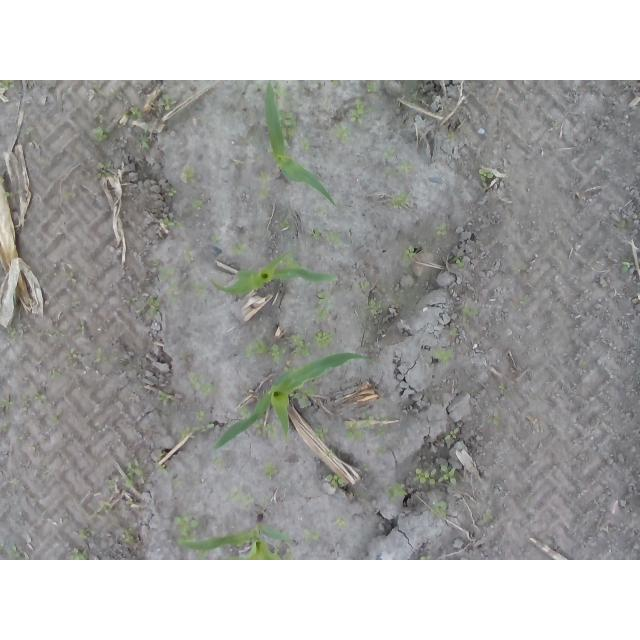Maize: (214, 352, 379, 447), (263, 81, 340, 208), (206, 251, 338, 297), (180, 513, 292, 560)
Weeds: (276, 107, 297, 149), (173, 511, 199, 542), (252, 416, 280, 441), (187, 373, 217, 396), (348, 99, 372, 126), (123, 460, 145, 488), (226, 488, 255, 509), (314, 290, 330, 323), (430, 346, 454, 366), (387, 191, 411, 211), (292, 334, 312, 358), (90, 500, 112, 521), (136, 299, 160, 318), (246, 341, 271, 359), (412, 467, 437, 485), (331, 124, 354, 143), (279, 252, 301, 271), (159, 265, 178, 287), (293, 387, 315, 406), (385, 483, 407, 502), (315, 330, 334, 351), (94, 161, 114, 180), (270, 83, 290, 102), (346, 421, 365, 441), (438, 465, 458, 484), (261, 461, 280, 480), (176, 425, 200, 440), (376, 412, 391, 436), (2, 188, 23, 205), (123, 104, 145, 120), (325, 473, 347, 489), (158, 93, 177, 111), (430, 500, 449, 518), (454, 302, 478, 316), (478, 167, 494, 188), (272, 545, 294, 560), (397, 159, 416, 176), (270, 343, 286, 363), (323, 231, 344, 246), (92, 125, 112, 140), (159, 217, 182, 230), (138, 125, 150, 149), (366, 297, 382, 315), (68, 548, 91, 560), (305, 528, 322, 544), (180, 166, 196, 182), (236, 405, 253, 420), (165, 288, 180, 305), (230, 241, 247, 256), (191, 282, 209, 296), (403, 245, 417, 263), (33, 390, 48, 406), (486, 411, 502, 426), (62, 184, 78, 199), (361, 414, 376, 430), (314, 427, 329, 442), (444, 428, 460, 441), (124, 527, 136, 544), (381, 147, 395, 161), (434, 222, 448, 236), (155, 461, 169, 475), (158, 392, 171, 407), (620, 258, 631, 275), (73, 319, 87, 332), (10, 545, 23, 559), (335, 517, 349, 530), (184, 246, 194, 263), (308, 228, 322, 240), (381, 166, 395, 178), (482, 508, 494, 522), (47, 414, 61, 426), (91, 110, 105, 122), (68, 347, 79, 362), (353, 281, 371, 290), (94, 346, 104, 362), (20, 126, 36, 136), (452, 256, 465, 268), (366, 81, 378, 94), (259, 170, 270, 184), (409, 89, 420, 103), (192, 198, 204, 210), (230, 159, 243, 170), (299, 138, 310, 151), (0, 80, 14, 90), (279, 219, 291, 230), (259, 187, 271, 198), (78, 526, 91, 536), (166, 187, 179, 197), (0, 399, 14, 408), (195, 411, 206, 422), (7, 326, 17, 338), (266, 140, 275, 153), (66, 272, 76, 283), (499, 383, 509, 394), (284, 361, 295, 371), (323, 450, 333, 461), (198, 550, 209, 560), (199, 423, 214, 430), (616, 219, 626, 229), (519, 295, 529, 305), (445, 131, 455, 141), (21, 396, 32, 405), (377, 446, 388, 455), (450, 326, 458, 338), (48, 371, 61, 378), (214, 458, 224, 467), (55, 329, 66, 337), (127, 296, 139, 303), (212, 231, 220, 241), (125, 498, 135, 506), (364, 463, 373, 471), (109, 482, 118, 490), (0, 422, 8, 430), (316, 207, 324, 214), (421, 556, 432, 561), (72, 302, 82, 307), (578, 359, 586, 365), (461, 317, 467, 324), (331, 80, 341, 84)
